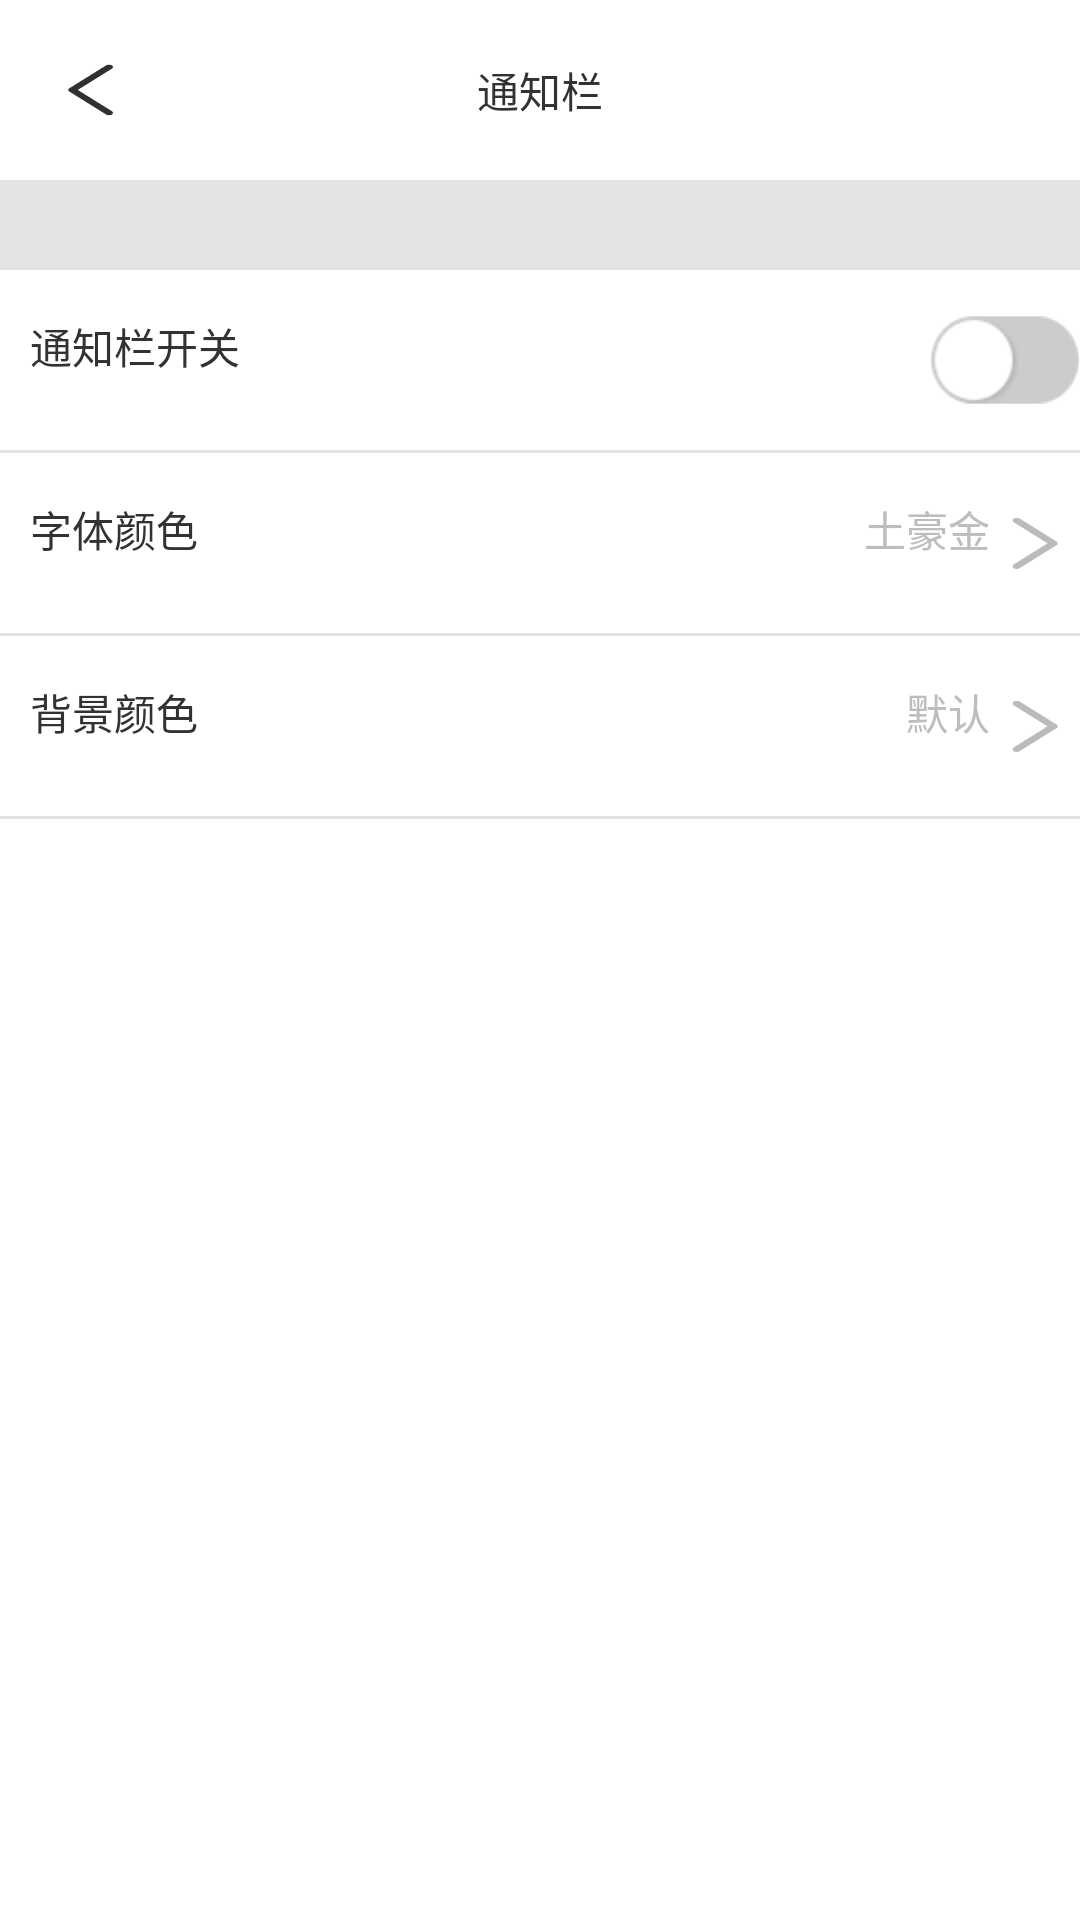

Icon click points for this 1080*1920 phone screenshot, format point (x, y):
title fallback: point (90, 89)
title forword: point (1035, 543), point (1035, 726)
